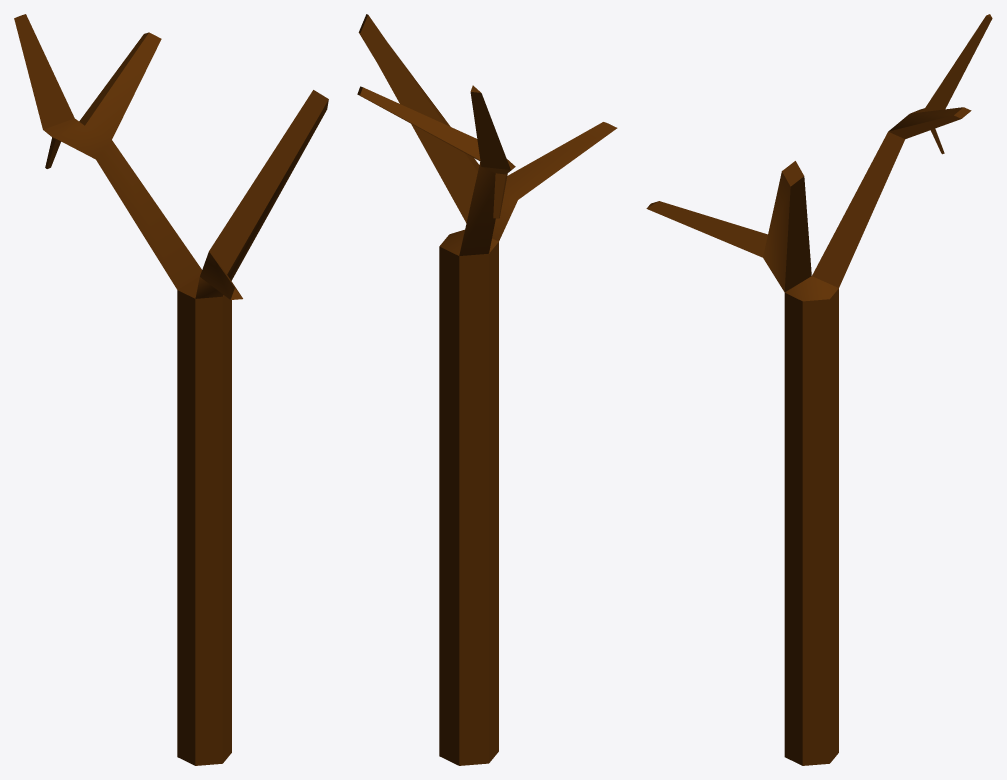
The model's file is Tree_Branch.fbx.
3 renders of one model, left to right at view 1: azimuth 30°, elevation 25°; view 2: azimuth 150°, elevation 25°; view 3: azimuth 270°, elevation 25°, orthographic. The views are drawn at different scales.
Parts seen in each view (by area): view 1: pCylinder33; view 2: pCylinder33; view 3: pCylinder33.
Boxes of the visible parts, <box> form: pCylinder33: <box>14,14,328,765</box>; pCylinder33: <box>357,14,617,765</box>; pCylinder33: <box>646,14,992,765</box>.
Bounding box in the file's own units: 1.57 × 4.93 × 2.23.
